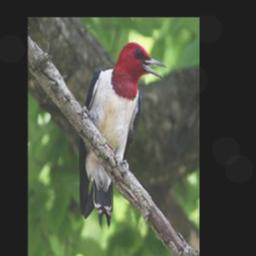Woodpecker: (74, 41, 169, 230)
